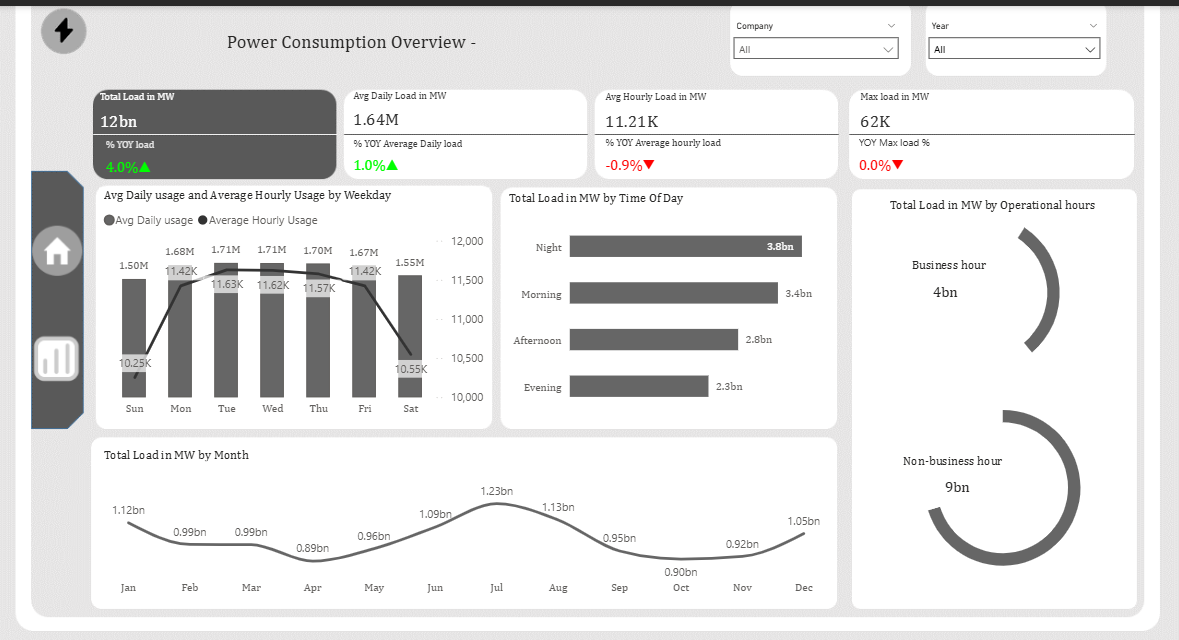

The dashboard page shown, as its layout file describes it:
{"tool":"powerbi","page":{"name":"Page 1","canvas":[1280,720],"ordinal":0},"visuals":[{"type":"slicer","fields":{"Values":["DateTable.Year"]},"box":[997.8,11.3,206,73.7],"z":0},{"type":"cardVisual","fields":{"Data":["Measures Table.Total Load in MW"]},"box":[90.7,75.6,179.5,68],"z":1000},{"type":"card","fields":{"Values":["Measures Table.Report Header 1"]},"box":[0,11.3,761.6,54.8],"z":2000},{"type":"slicer","fields":{"Values":["Energy data.Company"]},"box":[786.1,11.3,198.4,54.8],"z":3000},{"type":"cardVisual","fields":{"Data":["Measures Table.Avg Daily usage"]},"box":[366.6,73.7,206,86.9],"z":4000},{"type":"cardVisual","fields":{"Data":["Measures Table.Average Hourly Usage"]},"box":[638.7,75.6,230.6,86.9],"z":5000},{"type":"cardVisual","fields":{"Data":["Measures Table.Max load"]},"box":[916.5,75.6,209.8,85],"z":6000},{"type":"cardVisual","fields":{"Data":["Measures Table.% YOY load"]},"box":[98.3,126.6,164.4,64.3],"z":7000},{"type":"cardVisual","fields":{"Data":["Measures Table.% YOY Average load"]},"box":[638.7,111.5,168.2,98.3],"z":8000},{"type":"cardVisual","fields":{"Data":["Measures Table.% YOY Average Daily load"]},"box":[366.6,120.9,206,83.2],"z":9000},{"type":"cardVisual","fields":{"Data":["Measures Table.YOY Max load %"]},"box":[914.7,119.1,164.4,85],"z":10000},{"type":"lineStackedColumnComboChart","fields":{"Y":["Measures Table.Avg Daily usage"],"Category":["DateTable.Weekday"],"Y2":["Measures Table.Average Hourly Usage"]},"box":[107.7,196.5,423.3,255.1],"z":11000},{"type":"donutChart","fields":{"Category":["Energy data.IsBusinessHour"],"Y":["Measures Table.Total Load in MW"]},"box":[914.7,200.3,300.5,221.1],"z":12000},{"type":"donutChart","fields":{"Category":["Energy data.IsBusinessHour"],"Y":["Measures Table.Total Load in MW"]},"box":[956.2,412,260.8,221.1],"z":13000},{"type":"lineChart","fields":{"Y":["Measures Table.Total Load in MW"],"Category":["DateTable.Short Month"]},"box":[107.7,478.1,795.6,168.2],"z":14000},{"type":"barChart","fields":{"Category":["Energy data.TimeOfDay"],"Y":["Measures Table.Total Load in MW"]},"box":[546.1,200.3,355.3,251.3],"z":15000},{"type":"textbox","box":[941.1,264.6,173.9,32.1],"z":16000},{"type":"actionButton","box":[30.2,234.3,68,62.4],"z":17000},{"type":"actionButton","box":[30.2,326.9,60.5,111.5],"z":18000},{"type":"textbox","box":[927.9,478.1,211.7,45.4],"z":19000},{"type":"card","fields":{"Values":["Measures Table.Total Load in MW"]},"box":[997.8,491.3,81.3,62.4],"z":20000},{"type":"card","fields":{"Values":["Measures Table.Total Load in MW"]},"box":[984.6,279.7,81.3,62.4],"z":21000},{"type":"textbox","box":[916.5,200.3,321.3,64.3],"z":22000}]}

Visuals, with their boxes on the page's 1280x720 design canvas (x1, y1, x2, y2). These are canvas units, not pixel positions in the 1179x640 screenshot, which may show the page scaled, cropped or inside an application window:
slicer - DateTable.Year: x1=998 y1=11 x2=1204 y2=85
cardVisual - Measures Table.Total Load in MW: x1=91 y1=76 x2=270 y2=144
card - Measures Table.Report Header 1: x1=0 y1=11 x2=762 y2=66
slicer - Energy data.Company: x1=786 y1=11 x2=984 y2=66
cardVisual - Measures Table.Avg Daily usage: x1=367 y1=74 x2=573 y2=161
cardVisual - Measures Table.Average Hourly Usage: x1=639 y1=76 x2=869 y2=162
cardVisual - Measures Table.Max load: x1=916 y1=76 x2=1126 y2=161
cardVisual - Measures Table.% YOY load: x1=98 y1=127 x2=263 y2=191
cardVisual - Measures Table.% YOY Average load: x1=639 y1=112 x2=807 y2=210
cardVisual - Measures Table.% YOY Average Daily load: x1=367 y1=121 x2=573 y2=204
cardVisual - Measures Table.YOY Max load %: x1=915 y1=119 x2=1079 y2=204
lineStackedColumnComboChart - Measures Table.Avg Daily usage x DateTable.Weekday: x1=108 y1=196 x2=531 y2=452
donutChart - Energy data.IsBusinessHour x Measures Table.Total Load in MW: x1=915 y1=200 x2=1215 y2=421
donutChart - Energy data.IsBusinessHour x Measures Table.Total Load in MW: x1=956 y1=412 x2=1217 y2=633
lineChart - Measures Table.Total Load in MW x DateTable.Short Month: x1=108 y1=478 x2=903 y2=646
barChart - Energy data.TimeOfDay x Measures Table.Total Load in MW: x1=546 y1=200 x2=901 y2=452
textbox: x1=941 y1=265 x2=1115 y2=297
actionButton: x1=30 y1=234 x2=98 y2=297
actionButton: x1=30 y1=327 x2=91 y2=438
textbox: x1=928 y1=478 x2=1140 y2=524
card - Measures Table.Total Load in MW: x1=998 y1=491 x2=1079 y2=554
card - Measures Table.Total Load in MW: x1=985 y1=280 x2=1066 y2=342
textbox: x1=916 y1=200 x2=1238 y2=265
